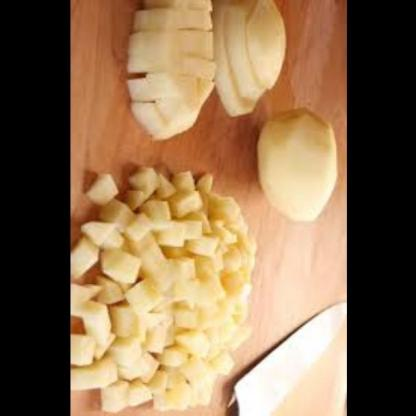potato: (70, 172, 260, 414), (118, 0, 220, 138), (204, 0, 289, 135), (256, 106, 342, 231)
